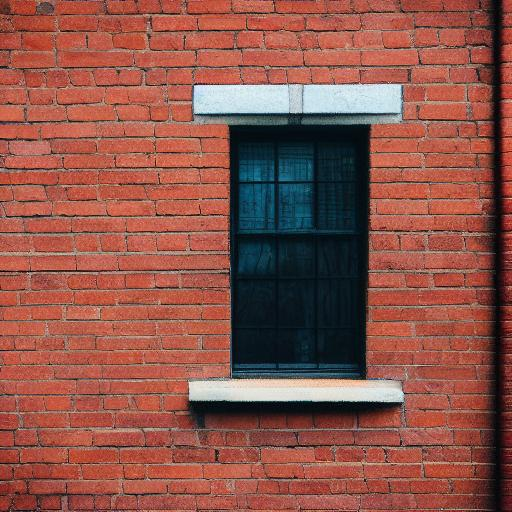Window: (186, 87, 405, 410)
